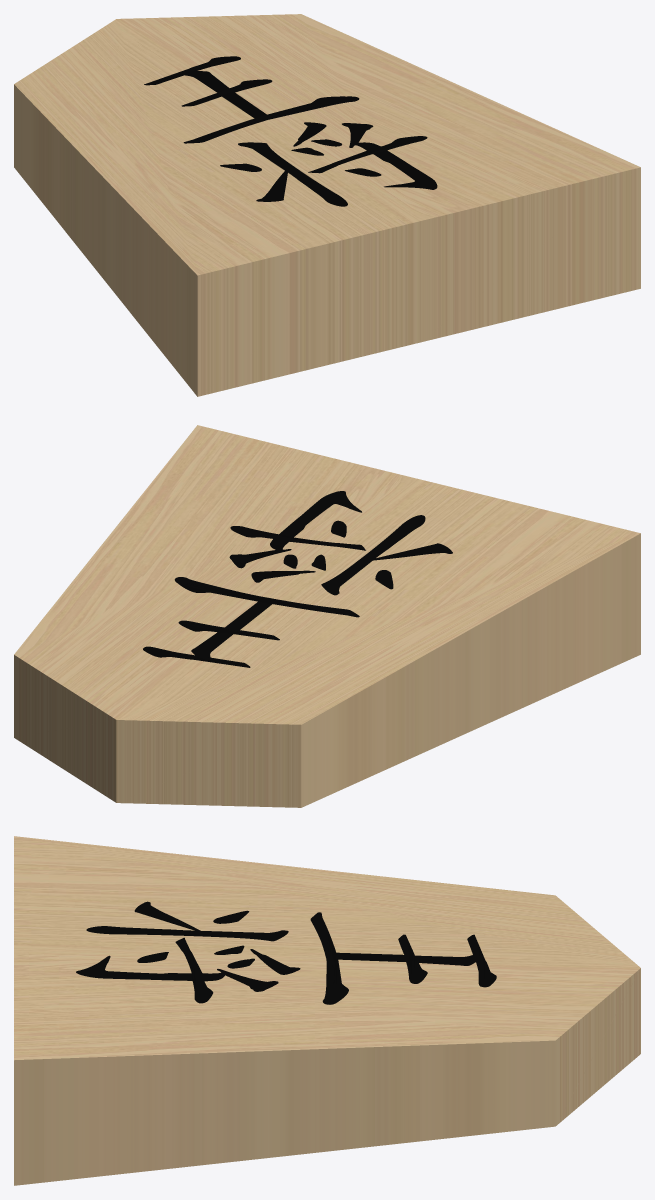
3 views of the same model, one above another, from view 1: azimuth 30°, elevation 25°; view 2: azimuth 150°, elevation 25°; view 3: azimuth 270°, elevation 25° (orthographic). The views are drawn at different scales.
Visible parts, largest first — view 1: ou.001; view 2: ou.001; view 3: ou.001.
Part boxes in pixels (left/top/right/bottom): ou.001: left=14, top=14, right=640, bottom=396; ou.001: left=14, top=425, right=640, bottom=807; ou.001: left=14, top=836, right=640, bottom=1185.
Bounding box in the file's own units: 456 × 119 × 540.
